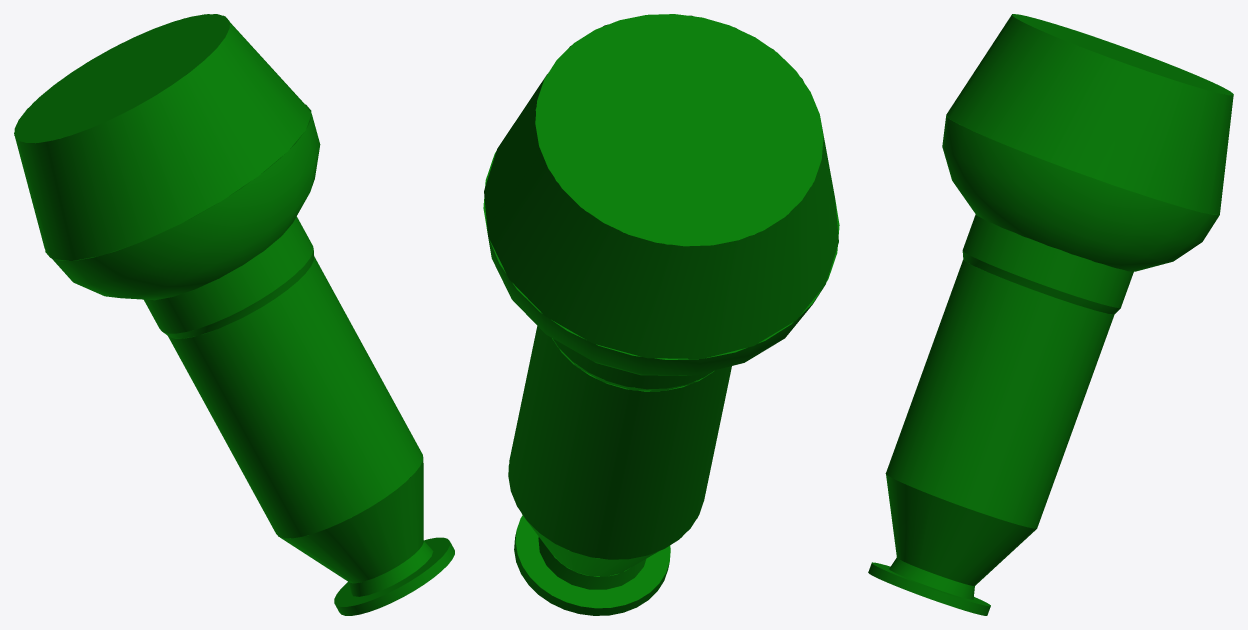
Rendered from Image-1711348062313-2281200011504_43-FC50.fbx.
3 renders of one model, left to right at view 1: azimuth 30°, elevation 25°; view 2: azimuth 150°, elevation 25°; view 3: azimuth 270°, elevation 25°, orthographic. The views are drawn at different scales.
Parts seen in each view (by area): view 1: CONE 4 of SUBEQUIPMENT /43-FC50-PRIM, CYLINDER 1 of SUBEQUIPMENT /43-FC50-PRIM, DISH 1 of SUBEQUIPMENT /43-FC50-PRIM, CONE 2 of SUBEQUIPMENT /43-FC50-PRIM, CYLINDER 2 of SUBEQUIPMENT /43-FC50-PRIM, /43-FC50/N1, CONE 1 of SUBEQUIPMENT /43-FC50-PRIM, CONE 3 of SUBEQUIPMENT /43-FC50-PRIM; view 2: CONE 4 of SUBEQUIPMENT /43-FC50-PRIM, CYLINDER 1 of SUBEQUIPMENT /43-FC50-PRIM, /43-FC50/N1, DISH 1 of SUBEQUIPMENT /43-FC50-PRIM, CYLINDER 2 of SUBEQUIPMENT /43-FC50-PRIM, CONE 2 of SUBEQUIPMENT /43-FC50-PRIM, CONE 1 of SUBEQUIPMENT /43-FC50-PRIM; view 3: CYLINDER 1 of SUBEQUIPMENT /43-FC50-PRIM, CONE 4 of SUBEQUIPMENT /43-FC50-PRIM, DISH 1 of SUBEQUIPMENT /43-FC50-PRIM, CONE 2 of SUBEQUIPMENT /43-FC50-PRIM, CYLINDER 2 of SUBEQUIPMENT /43-FC50-PRIM, /43-FC50/N1, CONE 3 of SUBEQUIPMENT /43-FC50-PRIM, CONE 1 of SUBEQUIPMENT /43-FC50-PRIM.
Boxes of the visible parts, x1,y1,x2,y2 form: CONE 4 of SUBEQUIPMENT /43-FC50-PRIM: (14, 14, 311, 260); CYLINDER 1 of SUBEQUIPMENT /43-FC50-PRIM: (168, 257, 422, 538); DISH 1 of SUBEQUIPMENT /43-FC50-PRIM: (52, 114, 320, 300); CONE 2 of SUBEQUIPMENT /43-FC50-PRIM: (280, 457, 423, 583); CYLINDER 2 of SUBEQUIPMENT /43-FC50-PRIM: (144, 216, 313, 333); /43-FC50/N1: (334, 537, 454, 615); CONE 1 of SUBEQUIPMENT /43-FC50-PRIM: (348, 541, 433, 596); CONE 3 of SUBEQUIPMENT /43-FC50-PRIM: (163, 248, 314, 338); CONE 4 of SUBEQUIPMENT /43-FC50-PRIM: (483, 14, 839, 359); CYLINDER 1 of SUBEQUIPMENT /43-FC50-PRIM: (508, 326, 731, 559); /43-FC50/N1: (514, 515, 670, 615); DISH 1 of SUBEQUIPMENT /43-FC50-PRIM: (488, 237, 824, 375); CYLINDER 2 of SUBEQUIPMENT /43-FC50-PRIM: (552, 338, 714, 389); CONE 2 of SUBEQUIPMENT /43-FC50-PRIM: (508, 465, 697, 576); CONE 1 of SUBEQUIPMENT /43-FC50-PRIM: (538, 537, 646, 589); CYLINDER 1 of SUBEQUIPMENT /43-FC50-PRIM: (885, 260, 1114, 528); CONE 4 of SUBEQUIPMENT /43-FC50-PRIM: (946, 14, 1233, 215); DISH 1 of SUBEQUIPMENT /43-FC50-PRIM: (942, 115, 1219, 271); CONE 2 of SUBEQUIPMENT /43-FC50-PRIM: (886, 474, 1036, 585); CYLINDER 2 of SUBEQUIPMENT /43-FC50-PRIM: (962, 214, 1133, 307); /43-FC50/N1: (868, 562, 990, 615); CONE 3 of SUBEQUIPMENT /43-FC50-PRIM: (962, 251, 1120, 314); CONE 1 of SUBEQUIPMENT /43-FC50-PRIM: (889, 558, 974, 599).
Size of the model in its own units: 2.23 by 2.23 by 3.6.
